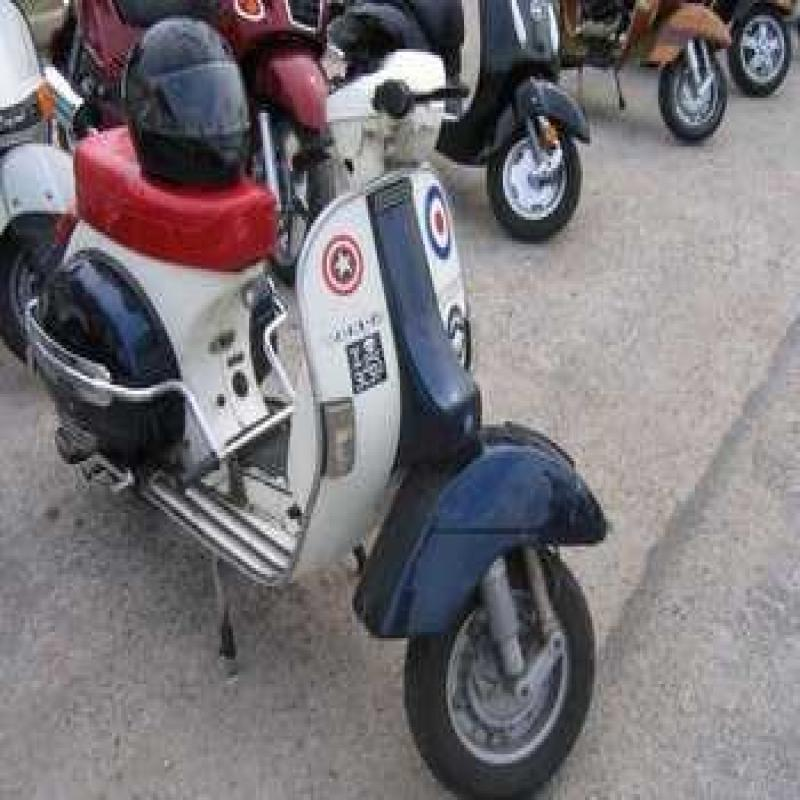bike: (272, 43, 612, 789)
